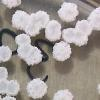white: (55, 1, 81, 23), (50, 40, 73, 62), (26, 77, 48, 100), (10, 9, 31, 31), (22, 46, 45, 66), (69, 26, 90, 47), (34, 7, 52, 30), (87, 5, 100, 33), (22, 20, 42, 38), (75, 18, 93, 37), (59, 26, 77, 43), (4, 78, 20, 97), (13, 33, 33, 48), (14, 44, 34, 57), (0, 44, 13, 64), (52, 89, 75, 100), (0, 0, 24, 10), (45, 19, 60, 35), (27, 11, 39, 25), (0, 67, 10, 81), (0, 78, 8, 95), (94, 81, 100, 97), (2, 96, 18, 100), (0, 94, 3, 100)
